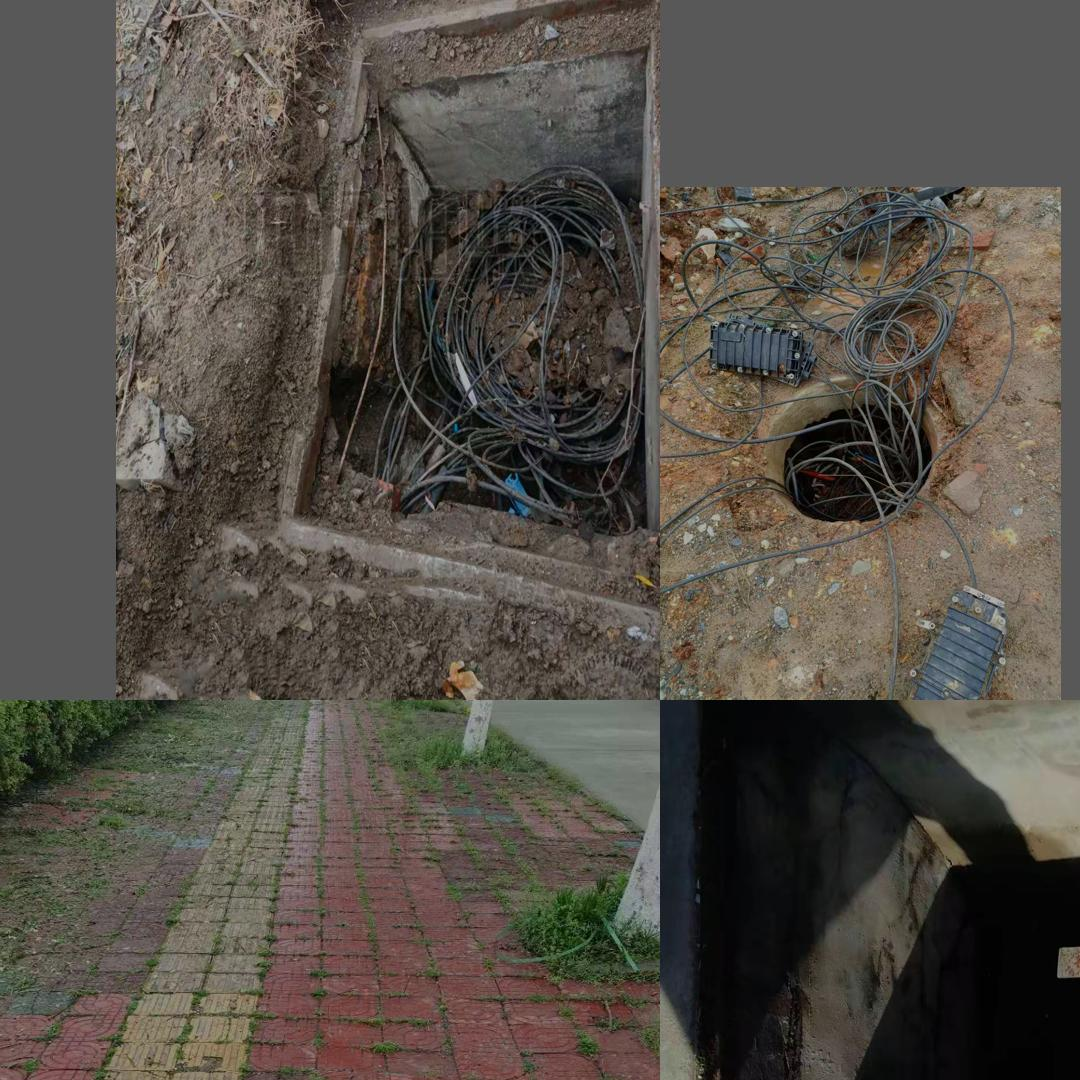lose: (268, 0, 660, 635), (677, 700, 1080, 1080), (765, 380, 942, 522)
